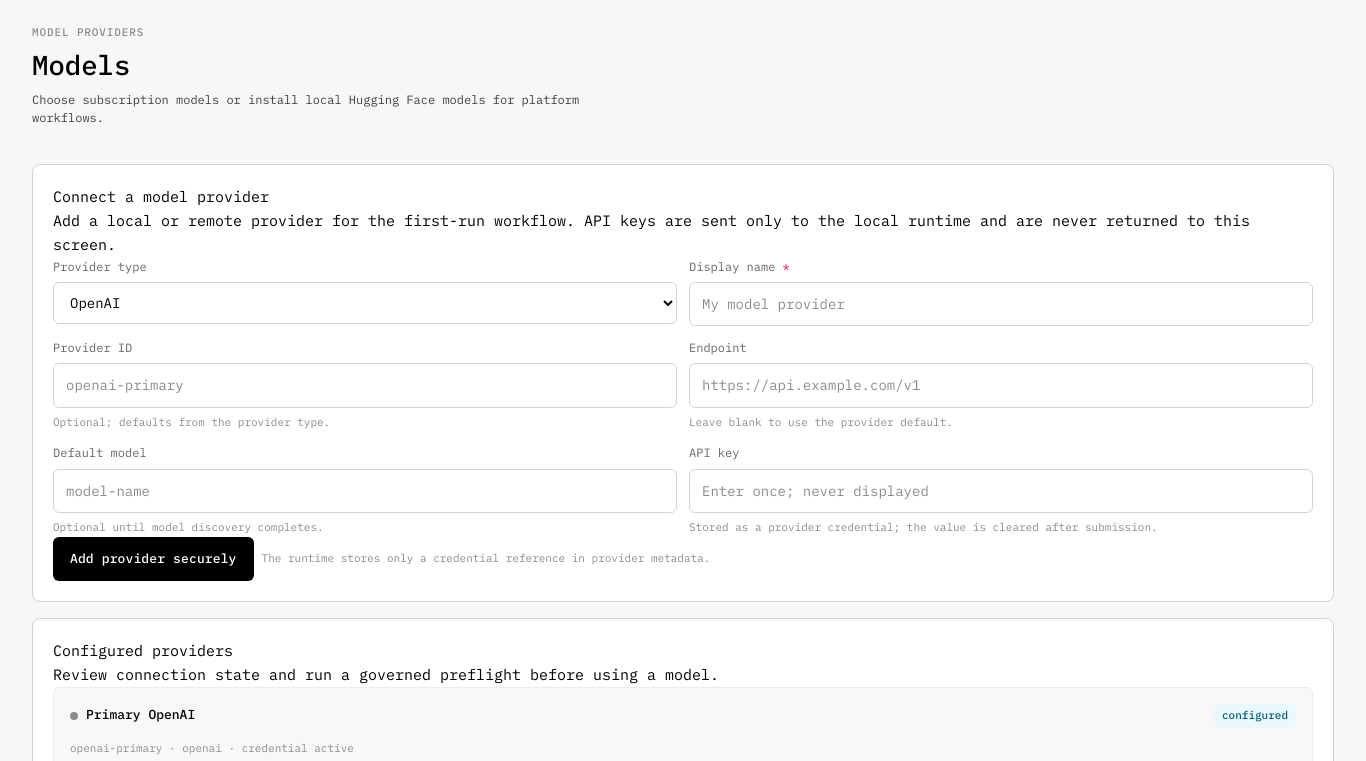
React frontend route and shell smoke coverage › configures and preflights a provider without retaining its API key in the UI
expect the heading "Connect a model provider" is shown: met, box top-left (53, 187), bottom-right (269, 206)
Type "Local OpenAI gateway" into the field named "Provider display name" at (1001, 304), box top-left (689, 282), bottom-right (1313, 326)
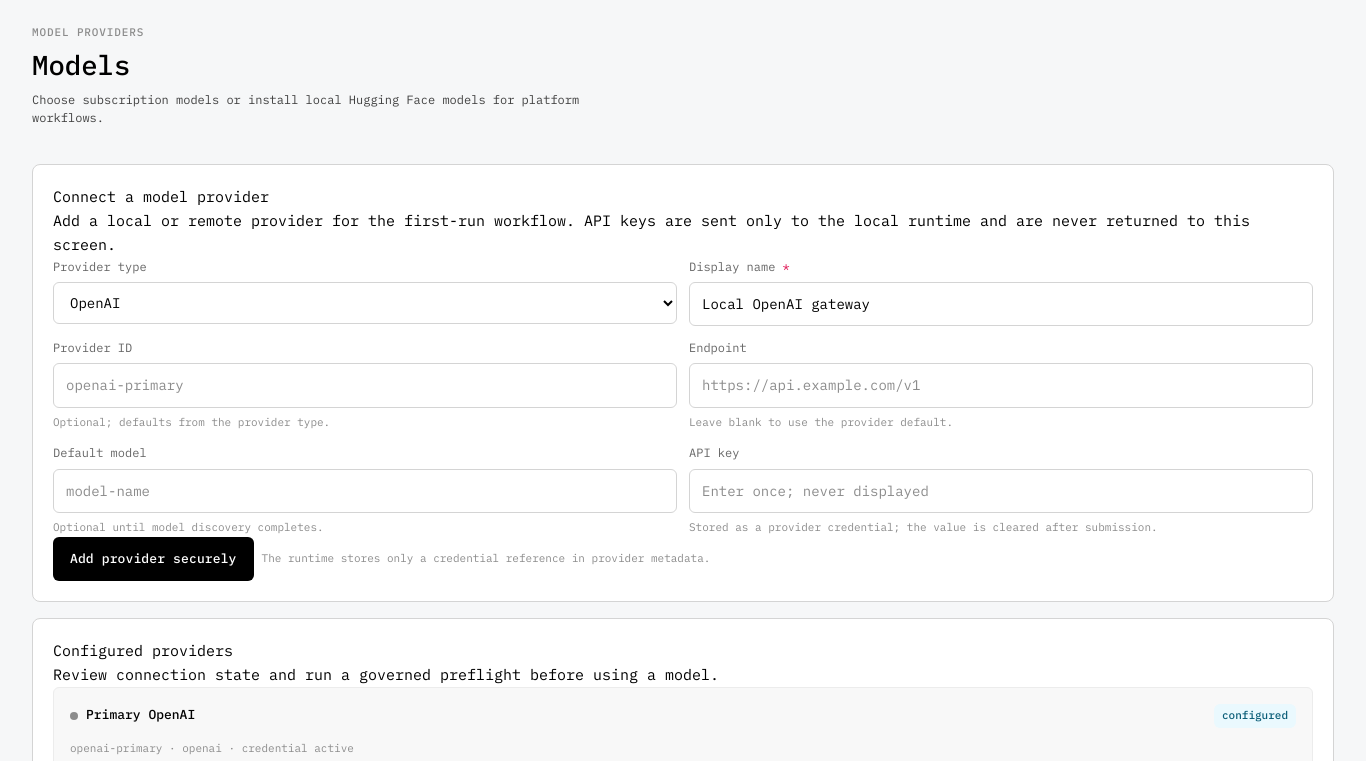
Type "super-secret-provider-key" into the password field named "Provider API key" at (1001, 491), box top-left (689, 469), bottom-right (1313, 513)
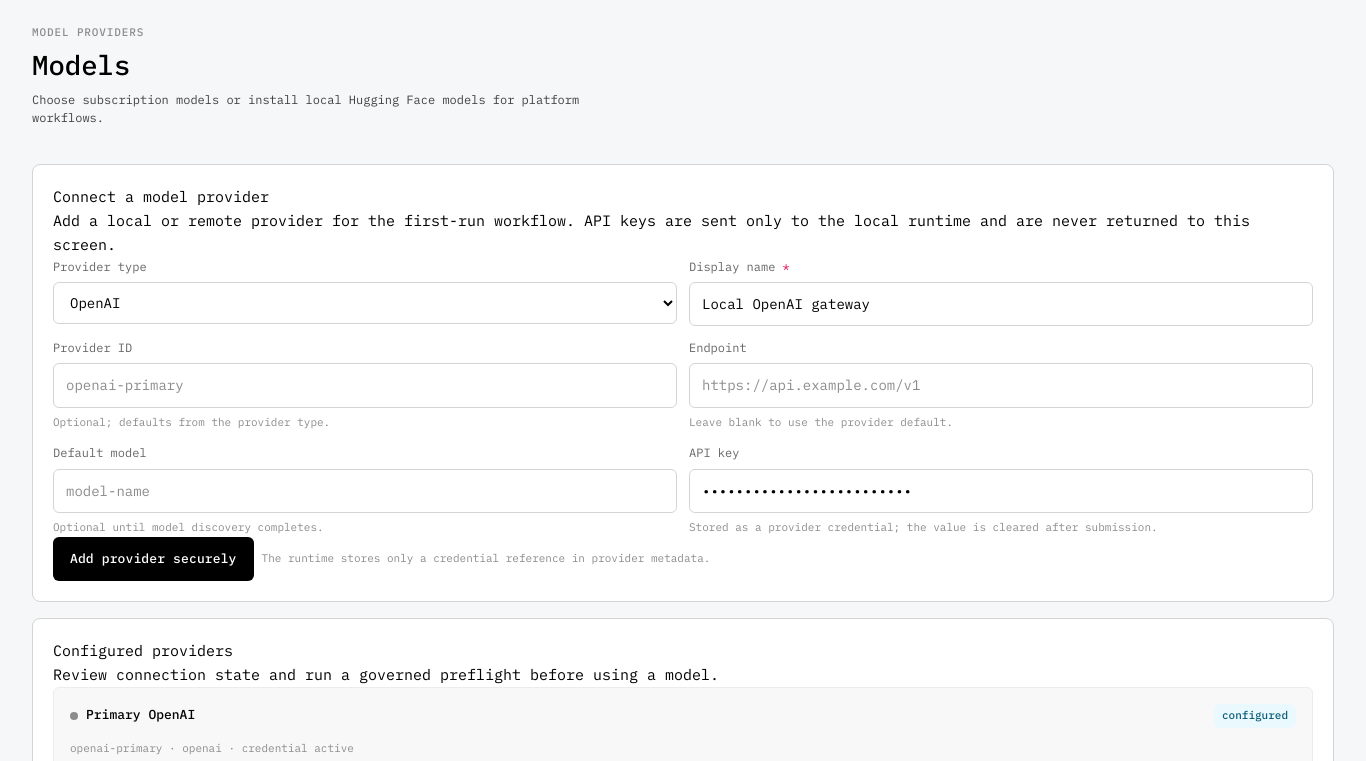
Click the button "Add provider securely" at (153, 559), box top-left (53, 537), bottom-right (254, 581)
(page scrolled)
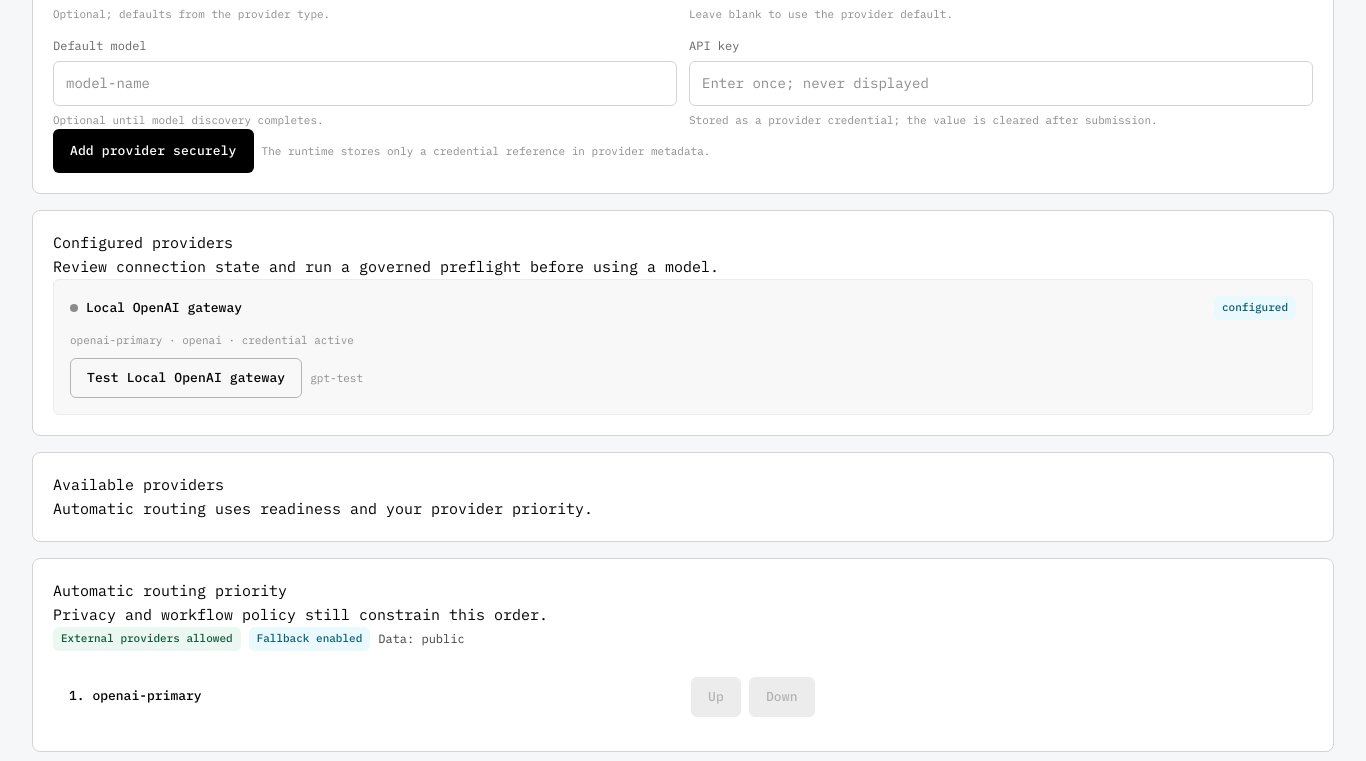
expect the text "Local OpenAI gateway" is shown: met, box top-left (70, 298), bottom-right (242, 319)
Click the button "Test Local OpenAI gateway" at (186, 378), box top-left (70, 358), bottom-right (302, 398)
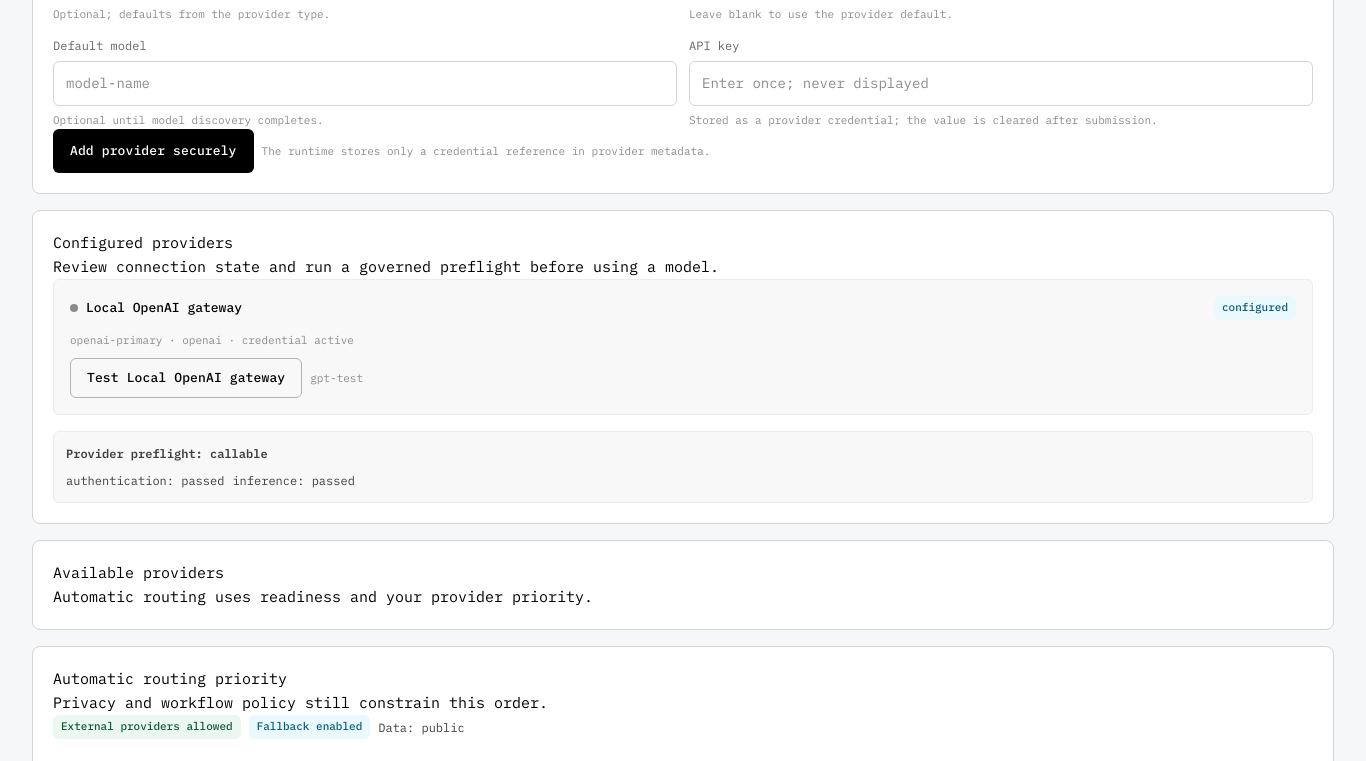
expect the text "Provider preflight: callable" is shown: met, box top-left (66, 446), bottom-right (268, 461)
expect the text "inference: passed" is shown: met, box top-left (232, 471), bottom-right (355, 490)
